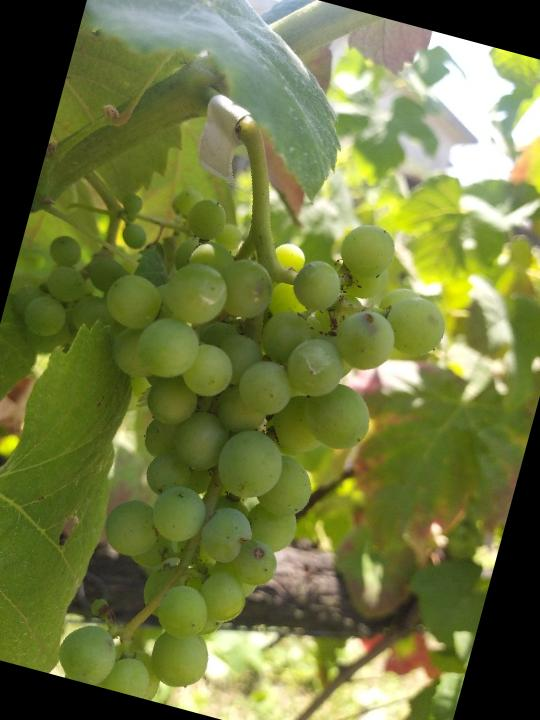grape: (4, 159, 468, 720)
